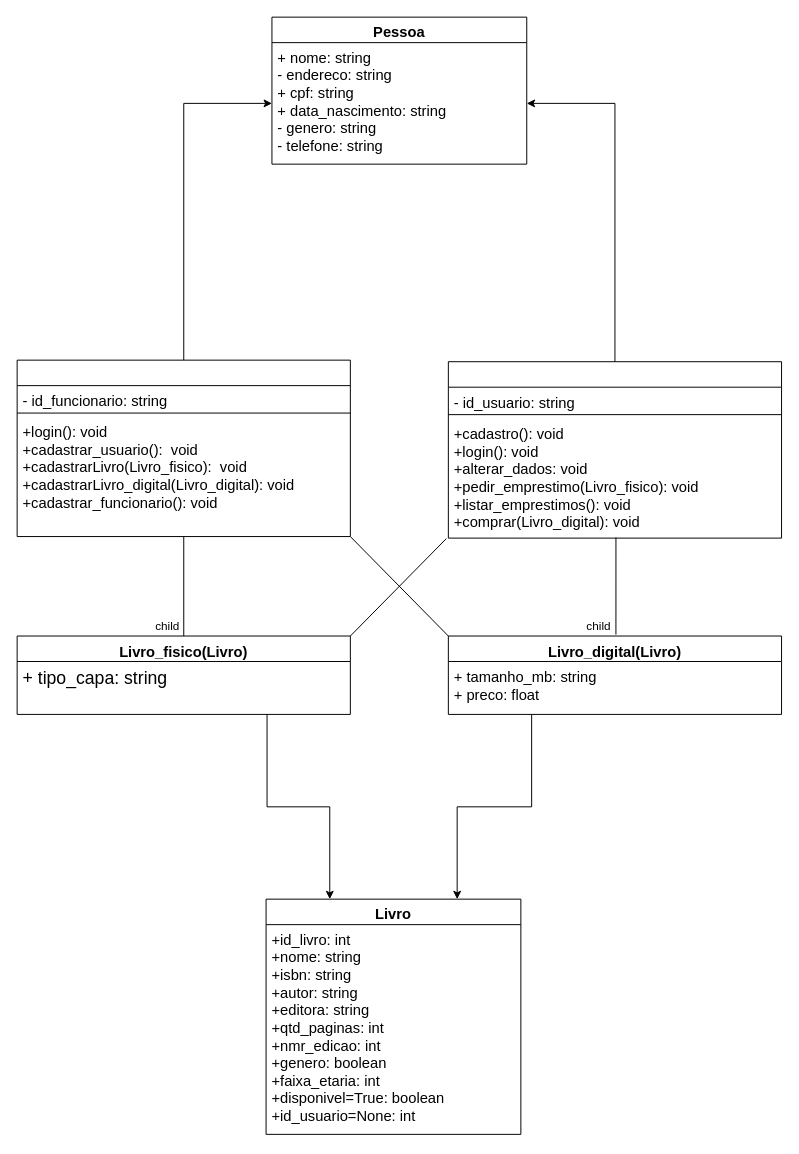
Image size: 799x1154. Some labels were removed from this diagram. The box of each missing label's shape, as (x1, y1, x2, y2) in pixels:
Funcionario (Pessoa): (16, 359, 350, 537)
Usuario (Pessoa): (447, 361, 782, 538)
